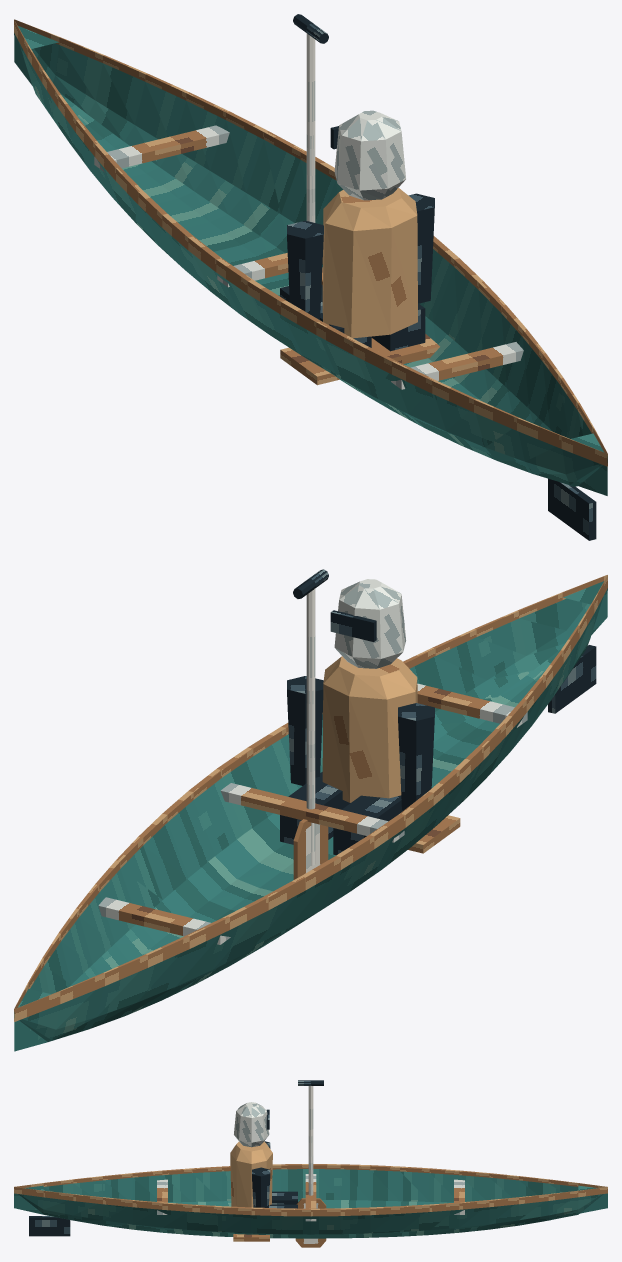
The model's file is loon.glb.
3 views of the same model, one above another, from view 1: azimuth 30°, elevation 25°; view 2: azimuth 150°, elevation 25°; view 3: azimuth 270°, elevation 25° (orthographic). The views are drawn at different scales.
Parts seen in each view (by area): view 1: lining, hull, crew_jacket, gunwale_left, gunwale_right, crew_helmet, crew_arm_-1, crew, thwart_5, thwart_15, skeg_skin, paddle_shaft (+2 smaller); view 2: lining, hull, crew_jacket, gunwale_left, gunwale_right, crew_helmet, crew, crew_arm_-1, thwart_10, paddle_shaft, thwart_5, thwart_15 (+5 smaller); view 3: hull, lining, gunwale_right, gunwale_left, crew_jacket, crew_helmet, crew, skeg_skin, paddle_shaft, paddle_blade, thwart_10, crew_leg_-1 (+3 smaller).
Part boxes in pixels (x1,y1,x2,y2): lining: [31, 43, 607, 462]; hull: [14, 33, 607, 495]; crew_jacket: [322, 188, 417, 338]; gunwale_left: [14, 20, 607, 466]; gunwale_right: [14, 19, 607, 465]; crew_helmet: [334, 110, 405, 200]; crew_arm_-1: [287, 220, 323, 319]; crew: [371, 193, 434, 351]; thwart_5: [94, 125, 229, 172]; thwart_15: [391, 342, 523, 389]; skeg_skin: [548, 478, 596, 540]; paddle_shaft: [306, 33, 315, 222]; lining: [14, 598, 590, 1017]; hull: [14, 588, 607, 1051]; crew_jacket: [322, 656, 417, 802]; gunwale_left: [14, 575, 607, 1021]; gunwale_right: [14, 575, 607, 1021]; crew_helmet: [334, 579, 406, 668]; crew: [280, 676, 350, 844]; crew_arm_-1: [398, 703, 434, 810]; thwart_10: [220, 783, 404, 842]; paddle_shaft: [306, 588, 315, 865]; thwart_5: [98, 897, 230, 944]; thwart_15: [417, 683, 527, 727]; hull: [14, 1193, 607, 1238]; lining: [43, 1169, 578, 1208]; gunwale_right: [14, 1187, 607, 1216]; gunwale_left: [14, 1164, 607, 1187]; crew_jacket: [230, 1141, 272, 1207]; crew_helmet: [234, 1102, 269, 1147]; crew: [252, 1167, 297, 1208]; skeg_skin: [29, 1216, 70, 1236]; paddle_shaft: [308, 1086, 313, 1195]; paddle_blade: [295, 1198, 326, 1247]; thwart_10: [305, 1174, 316, 1221]; crew_leg_-1: [272, 1191, 297, 1204].
Size of the model in its own units: 0.92 by 1.55 by 5.
Materials: 1 (1 with a texture image).
